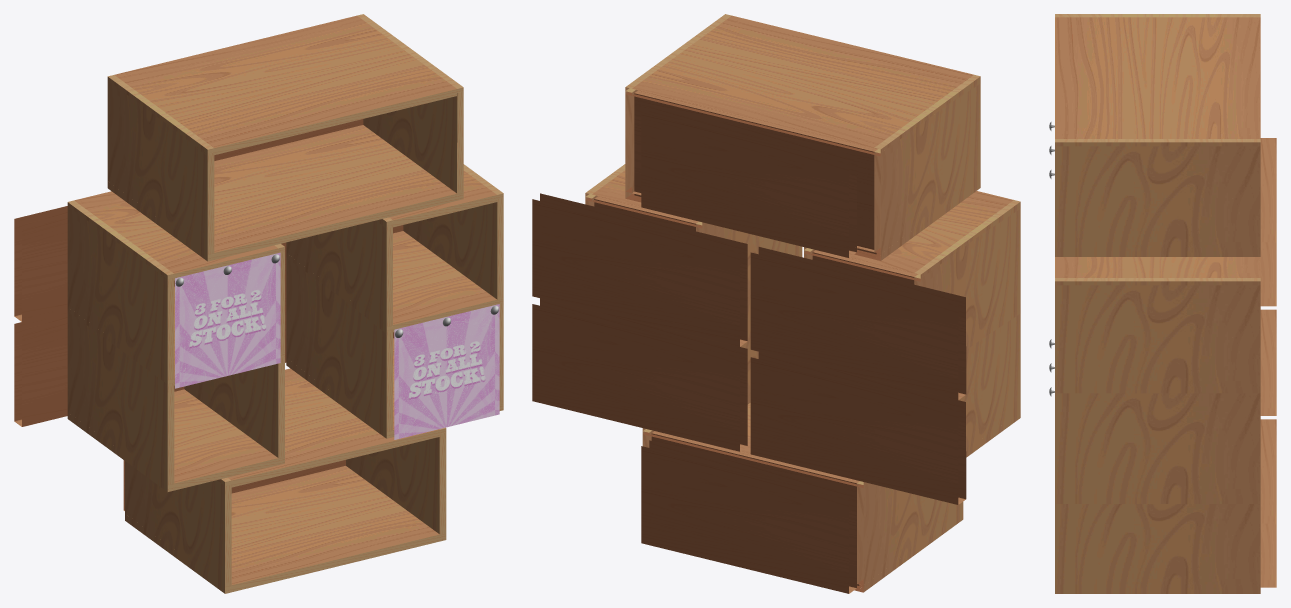
File: layout_poster_circle_shape_8c.fbx
3 renders of one model, left to right at view 1: azimuth 30°, elevation 25°; view 2: azimuth 150°, elevation 25°; view 3: azimuth 270°, elevation 25°, orthographic. The views are drawn at different scales.
Visible parts, largest first — view 1: Shelf-TM-00 5, Shelf-BM-00 5, Shelf-BM-00 2, Mesh-Poster-Small01, Mesh-Poster-Small01 1, Shelf-CL-01 3, Shelf-CL-01 4, Shelf-CL-01 5, Shelf-CL-01, Shelf-CL-01 2, Shelf-TM-00 2, Shelf-CL-01 1 (+19 smaller); view 2: Shelf-TM-00 5, Shelf-Back-00 (1) 4, Shelf-Back-00 (1) 3, Shelf-Back-00 (1) 2, Shelf-Back-00 (1) 5, Shelf-Back-00 (1) 1, Shelf-Back-00 (1), Shelf-CL-01 5, Shelf-CL-01 4, Shelf-CL-01 2, Shelf-CL-01 3, Shelf-Back-00 5 (+13 smaller); view 3: Shelf-TM-00 5, Shelf-CR-01, Shelf-CR-01 1, Shelf-CR-01 5, Shelf-CR-01 2, Shelf-TM-00 1, Shelf-Back-00 (1), Shelf-Back-00 (1) 1, Shelf-Back-00 (1) 5, Shelf-CR-00, Shelf-CR-00 (1) 1, Shelf-CR-00 2 (+7 smaller).
Part boxes in pixels (x1=…): Shelf-TM-00 5: x1=114, y1=15, x2=456, y2=154; Shelf-BM-00 5: x1=214, y1=125, x2=456, y2=259; Shelf-BM-00 2: x1=231, y1=466, x2=439, y2=591; Mesh-Poster-Small01: x1=175, y1=252, x2=280, y2=388; Mesh-Poster-Small01 1: x1=394, y1=304, x2=499, y2=439; Shelf-CL-01 3: x1=67, y1=311, x2=174, y2=484; Shelf-CL-01 4: x1=67, y1=206, x2=174, y2=379; Shelf-CL-01 5: x1=107, y1=81, x2=214, y2=254; Shelf-CL-01: x1=286, y1=258, x2=392, y2=431; Shelf-CL-01 2: x1=125, y1=461, x2=231, y2=586; Shelf-TM-00 2: x1=228, y1=368, x2=439, y2=487; Shelf-CL-01 1: x1=286, y1=220, x2=392, y2=326; Shelf-TM-00 5: x1=632, y1=15, x2=973, y2=154; Shelf-Back-00 (1) 4: x1=750, y1=247, x2=966, y2=400; Shelf-Back-00 (1) 3: x1=750, y1=351, x2=966, y2=504; Shelf-Back-00 (1) 2: x1=641, y1=440, x2=856, y2=593; Shelf-Back-00 (1) 5: x1=641, y1=104, x2=856, y2=257; Shelf-Back-00 (1) 1: x1=532, y1=193, x2=747, y2=346; Shelf-Back-00 (1): x1=532, y1=298, x2=747, y2=451; Shelf-CL-01 5: x1=874, y1=83, x2=980, y2=253; Shelf-CL-01 4: x1=914, y1=209, x2=1020, y2=345; Shelf-CL-01 2: x1=857, y1=481, x2=963, y2=585; Shelf-CL-01 3: x1=959, y1=313, x2=1020, y2=450; Shelf-Back-00 5: x1=634, y1=90, x2=877, y2=254; Shelf-TM-00 5: x1=1055, y1=17, x2=1260, y2=138; Shelf-CR-01: x1=1055, y1=393, x2=1260, y2=496; Shelf-CR-01 1: x1=1055, y1=285, x2=1260, y2=388; Shelf-CR-01 5: x1=1055, y1=146, x2=1260, y2=249; Shelf-CR-01 2: x1=1055, y1=504, x2=1260, y2=586; Shelf-TM-00 1: x1=1055, y1=257, x2=1260, y2=277; Shelf-Back-00 (1): x1=1260, y1=419, x2=1276, y2=523; Shelf-Back-00 (1) 1: x1=1260, y1=311, x2=1276, y2=415; Shelf-Back-00 (1) 5: x1=1260, y1=138, x2=1276, y2=242; Shelf-CR-00: x1=1055, y1=496, x2=1260, y2=503; Shelf-CR-00 (1) 1: x1=1055, y1=278, x2=1260, y2=285; Shelf-CR-00 2: x1=1055, y1=586, x2=1260, y2=593.
Size of the model in its own units: 197 by 198 by 88.53.
